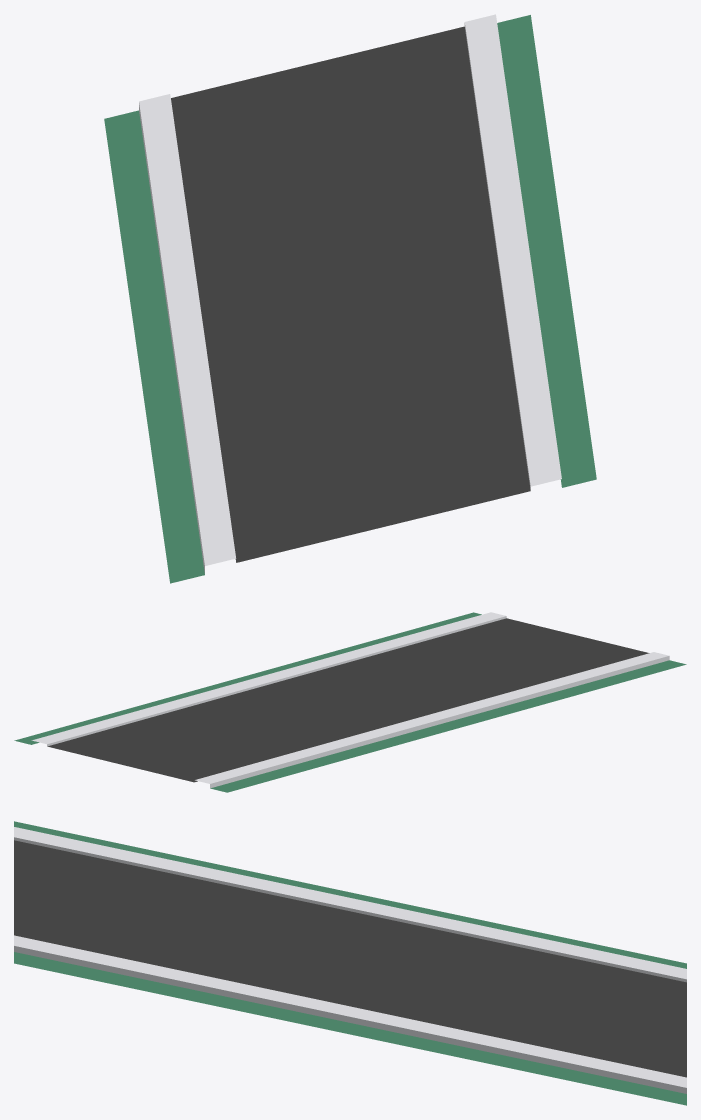
Rendered from roadStraightSkew.glb.
3 renders of one model, top to bottom at view 1: azimuth 30°, elevation 25°; view 2: azimuth 150°, elevation 25°; view 3: azimuth 270°, elevation 25°, orthographic. The views are drawn at different scales.
Parts seen in each view (by area): view 1: roadStraightSkew(Clone); view 2: roadStraightSkew(Clone); view 3: roadStraightSkew(Clone).
Part boxes in pixels (box(x1,y1,x2,y2)): roadStraightSkew(Clone): box(104, 14, 596, 583); roadStraightSkew(Clone): box(14, 612, 686, 792); roadStraightSkew(Clone): box(14, 821, 686, 1105).
Bounding box in the file's own units: 2 × 0.02 × 2.
